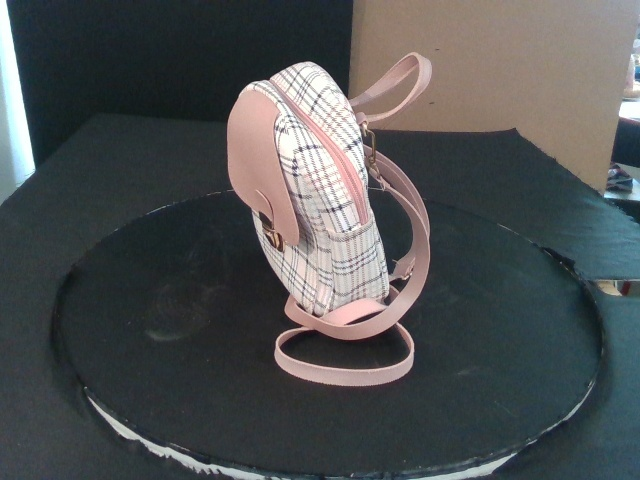bag: (227, 62, 391, 316)
